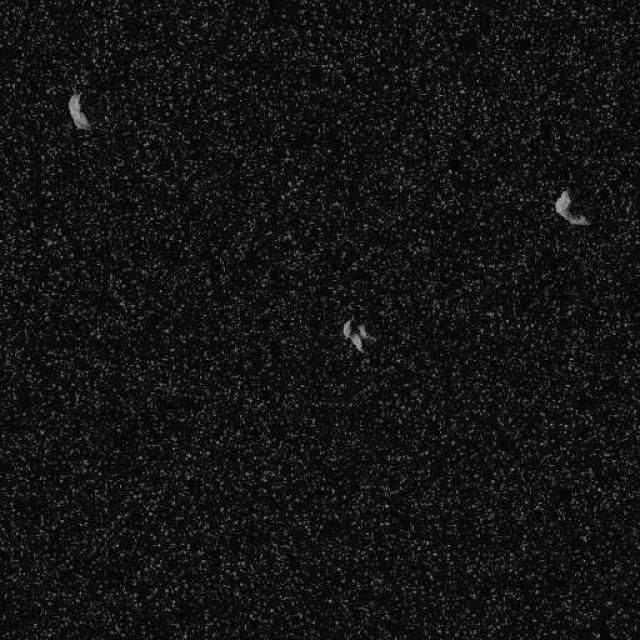D2: (552, 189, 590, 226), (340, 315, 375, 354), (66, 90, 92, 131)
